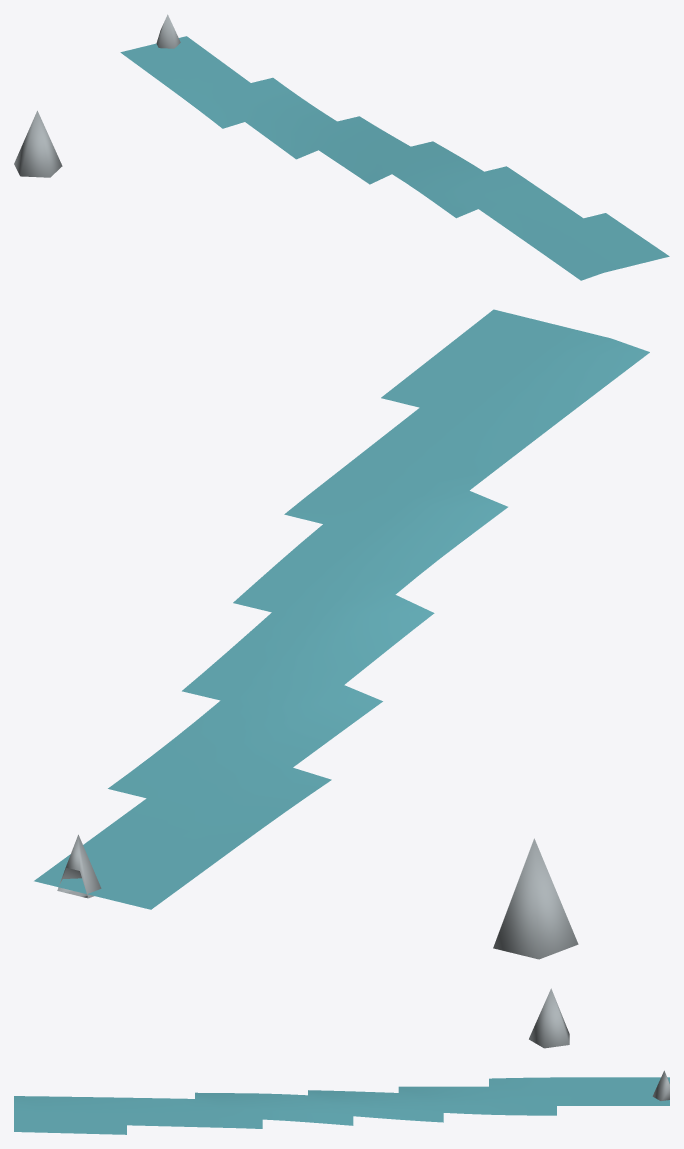
File: alpine-2-3.glb
3 renders of one model, top to bottom at view 1: azimuth 30°, elevation 25°; view 2: azimuth 150°, elevation 25°; view 3: azimuth 270°, elevation 25°, orthographic. The views are drawn at different scales.
Visible parts, largest first — view 1: alpine-2-3; view 2: alpine-2-3; view 3: alpine-2-3.
Part boxes in pixels (<box>): alpine-2-3: <box>14,14,669,280</box>; alpine-2-3: <box>34,309,649,959</box>; alpine-2-3: <box>14,988,669,1134</box>.
Size of the model in its own units: 126 by 20.58 by 232.
Materials: 2 (2 with a texture image).
